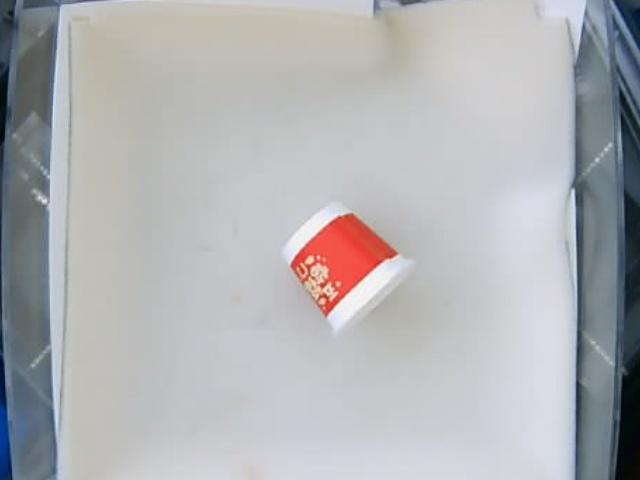Cup: (283, 202, 414, 331)
